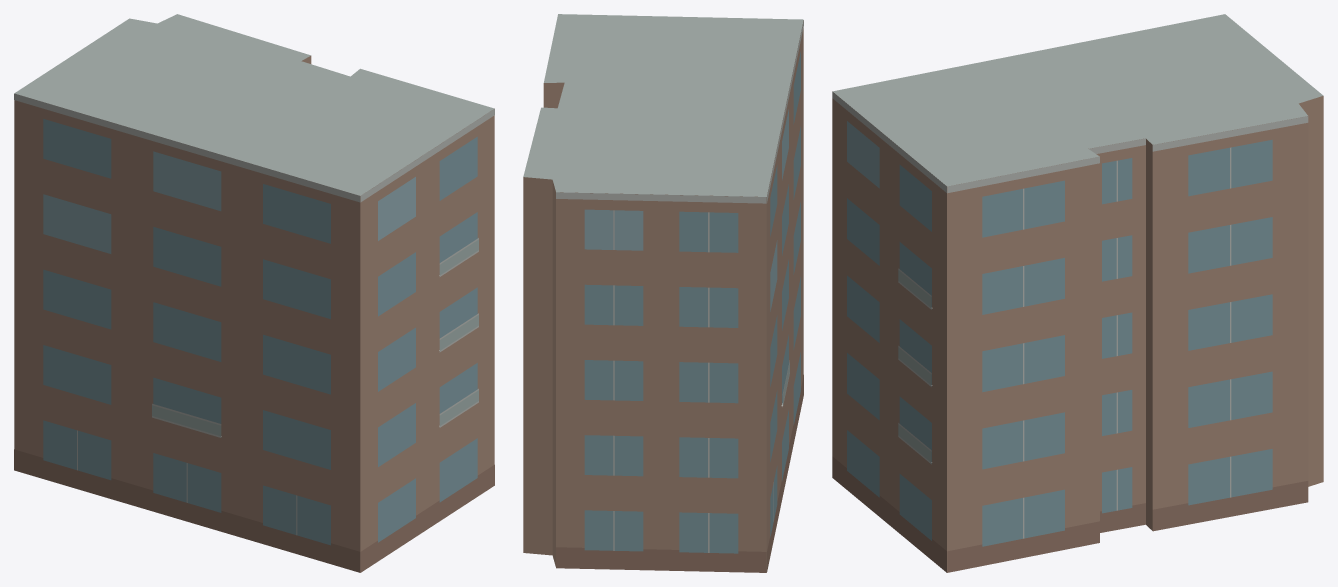
Rendered from survey-upis-32738255.glb.
The picture shows the model from 3 angles, left to right: view 1: azimuth 30°, elevation 25°; view 2: azimuth 150°, elevation 25°; view 3: azimuth 270°, elevation 25°; orthographic projection. The views are drawn at different scales.
Parts seen in each view (by area): view 1: survey-upis-32738255.tmp; view 2: survey-upis-32738255.tmp; view 3: survey-upis-32738255.tmp.
Boxes of the visible parts, x1,y1,x2,y2 form: survey-upis-32738255.tmp: (14, 14, 494, 572); survey-upis-32738255.tmp: (523, 14, 803, 572); survey-upis-32738255.tmp: (832, 14, 1323, 572).
Size of the model in its own units: 13.32 by 13.9 by 16.03.
